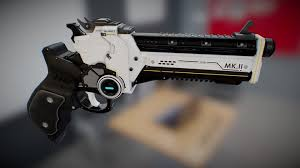gun: (28, 16, 276, 140)
